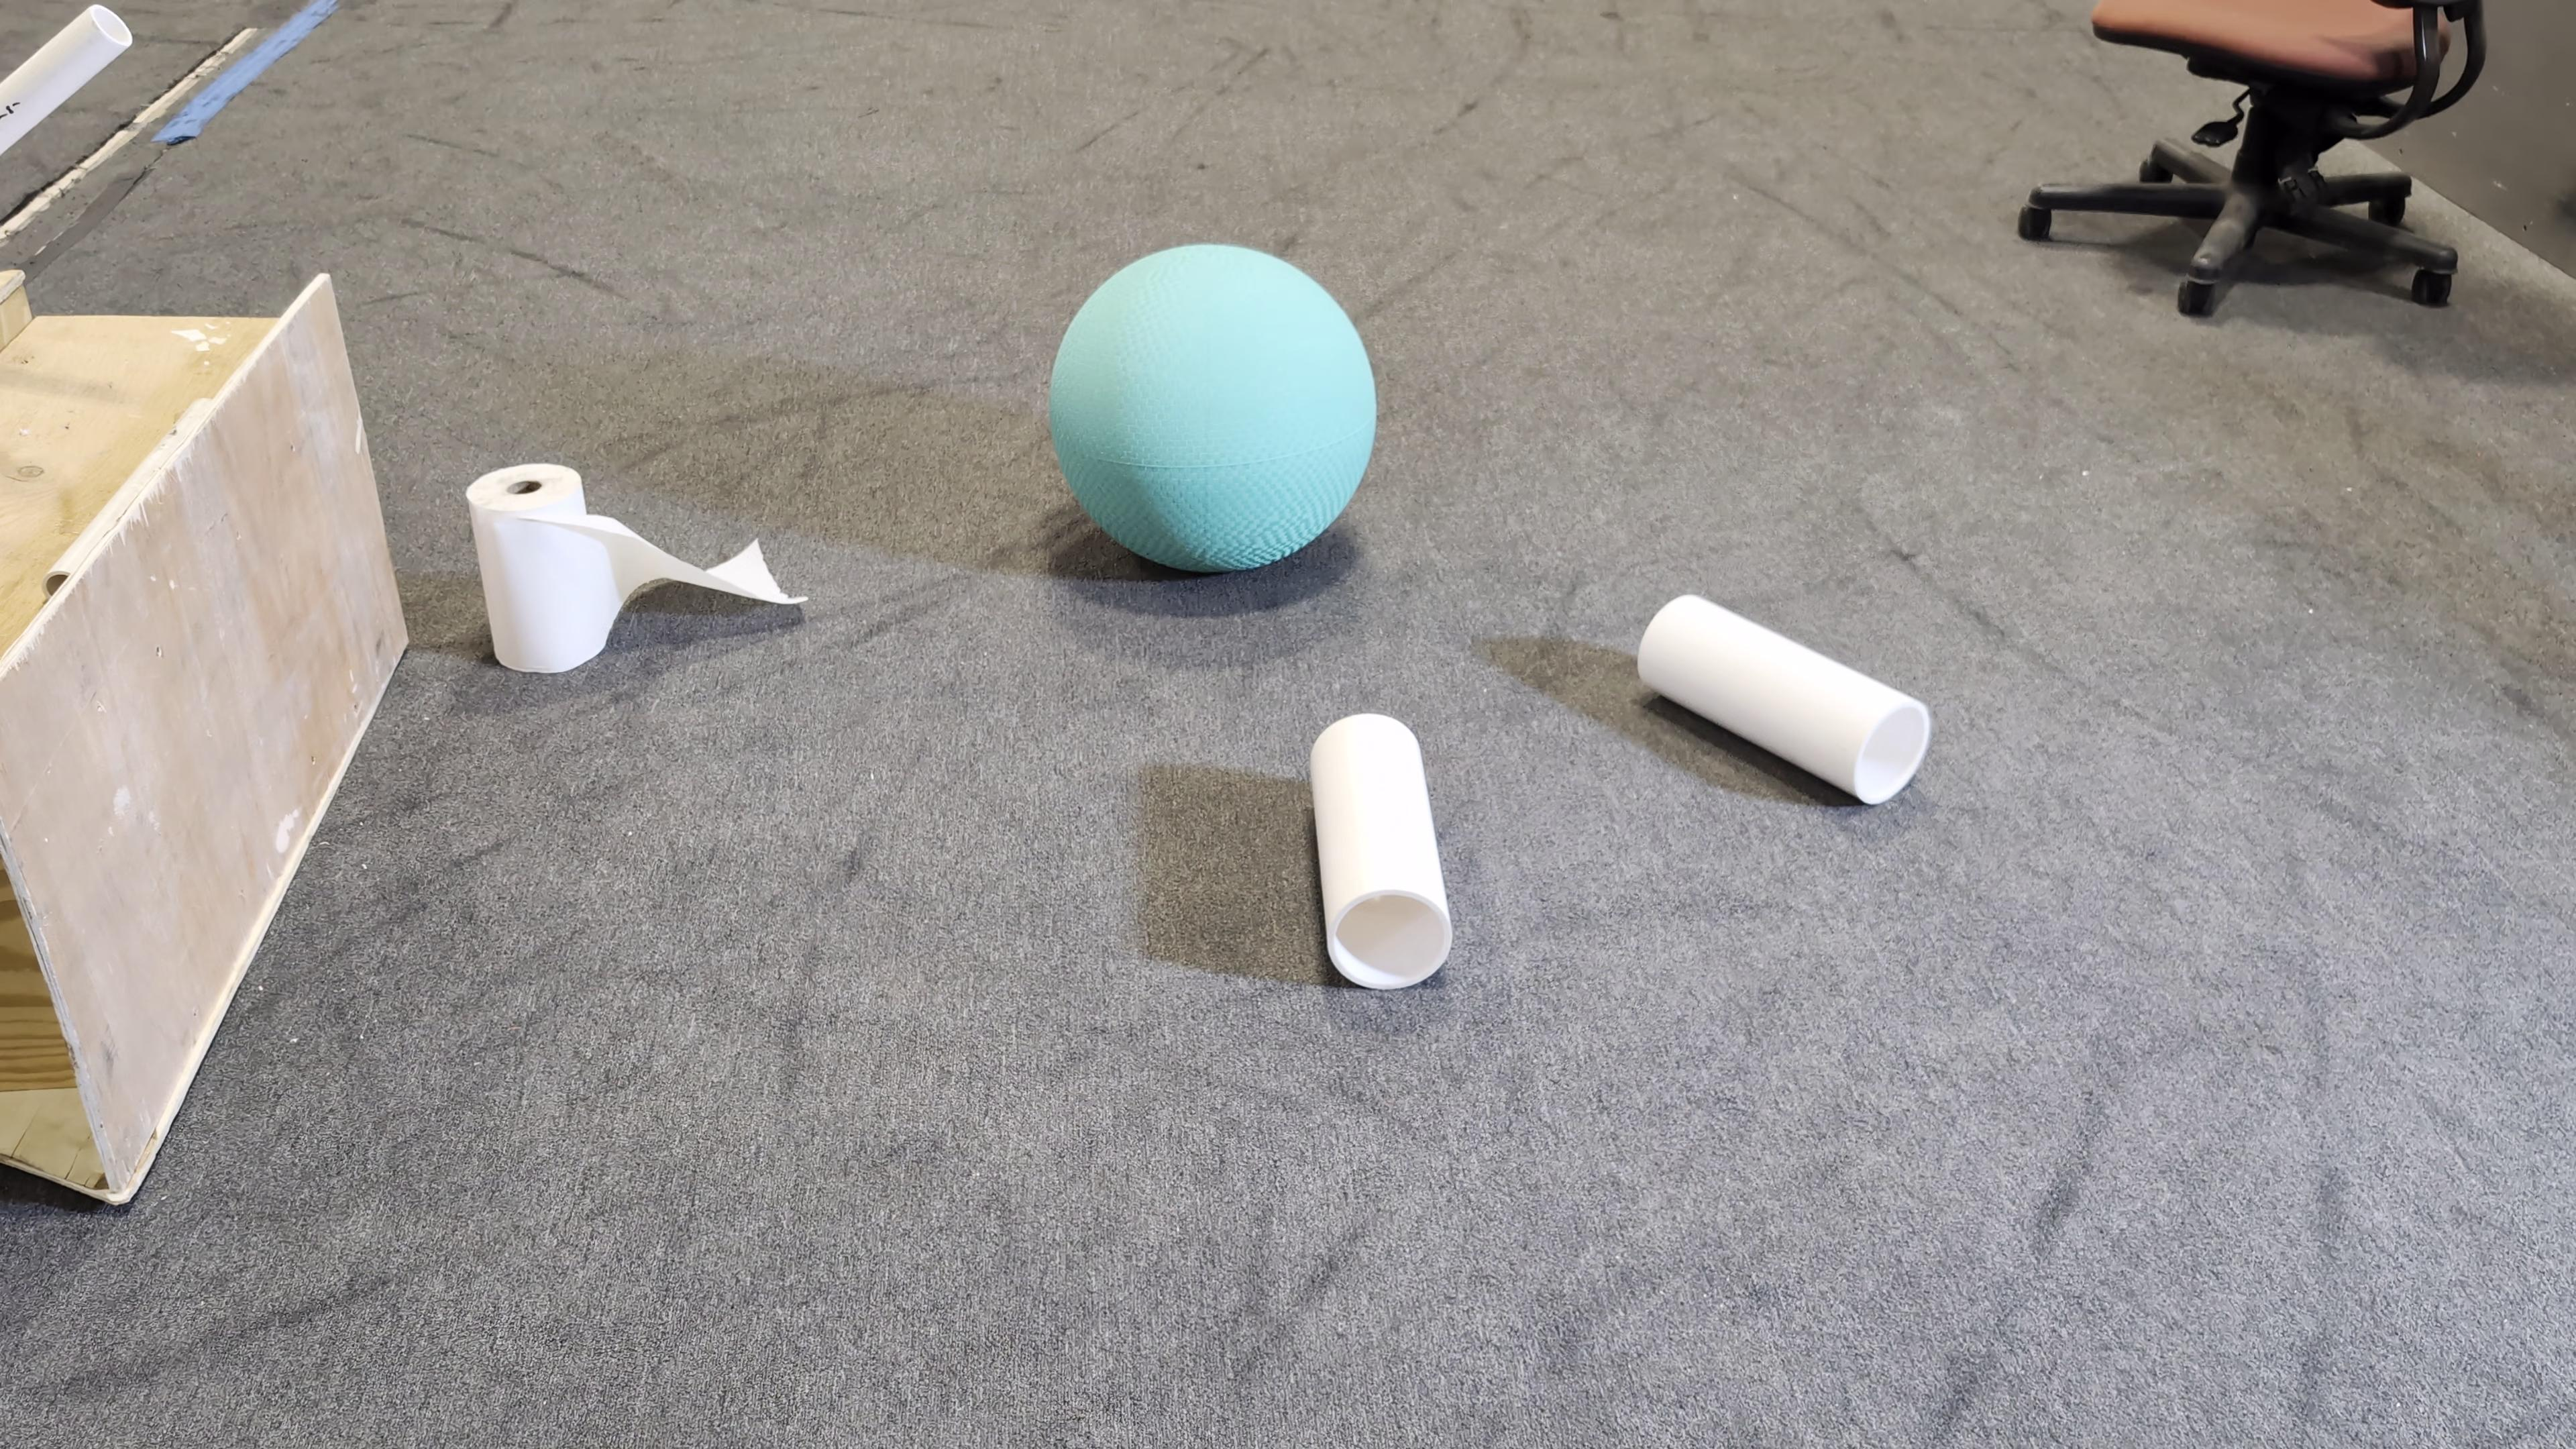algae: (1049, 241, 1376, 570)
coral: (1638, 587, 1934, 807), (1307, 713, 1454, 989)
